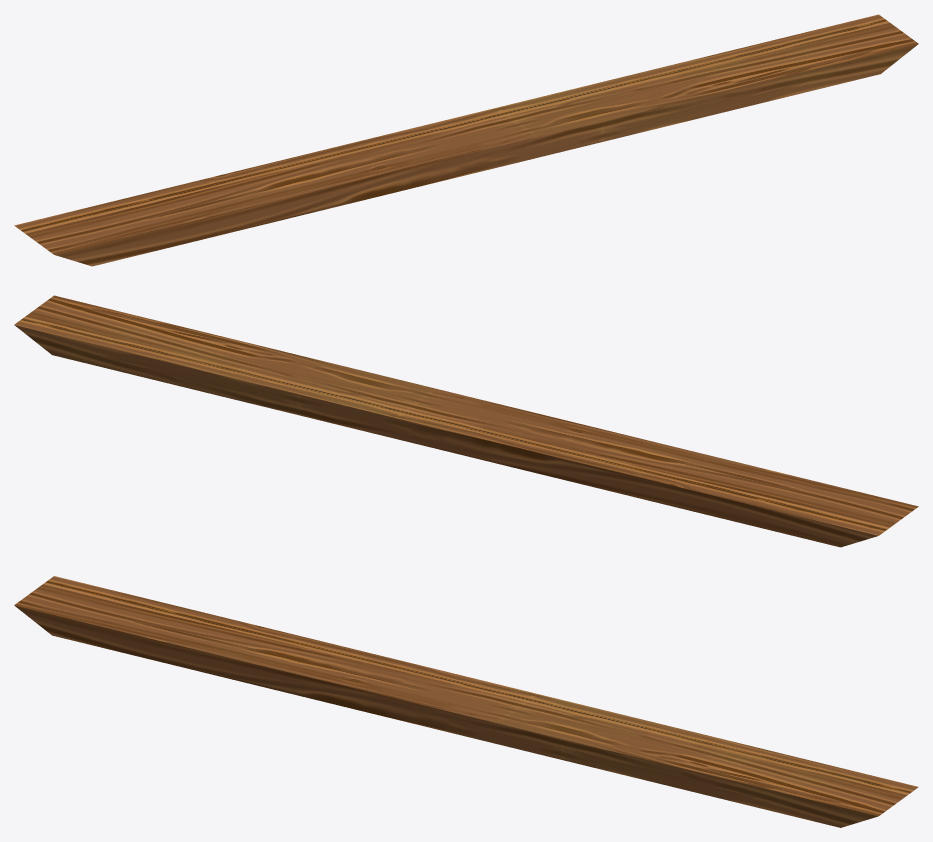
The picture shows the model from 3 angles, top to bottom: view 1: azimuth 30°, elevation 25°; view 2: azimuth 150°, elevation 25°; view 3: azimuth 330°, elevation 25°; orthographic projection.
Visible parts, largest first — view 1: Cube.531; view 2: Cube.531; view 3: Cube.531.
Part boxes in pixels (left/top/right/bottom): Cube.531: left=14, top=14, right=918, bottom=266; Cube.531: left=14, top=295, right=918, bottom=547; Cube.531: left=14, top=576, right=918, bottom=827.
Bounding box in the file's own units: 961 × 22.22 × 77.26.
Materials: 1 (1 with a texture image).
